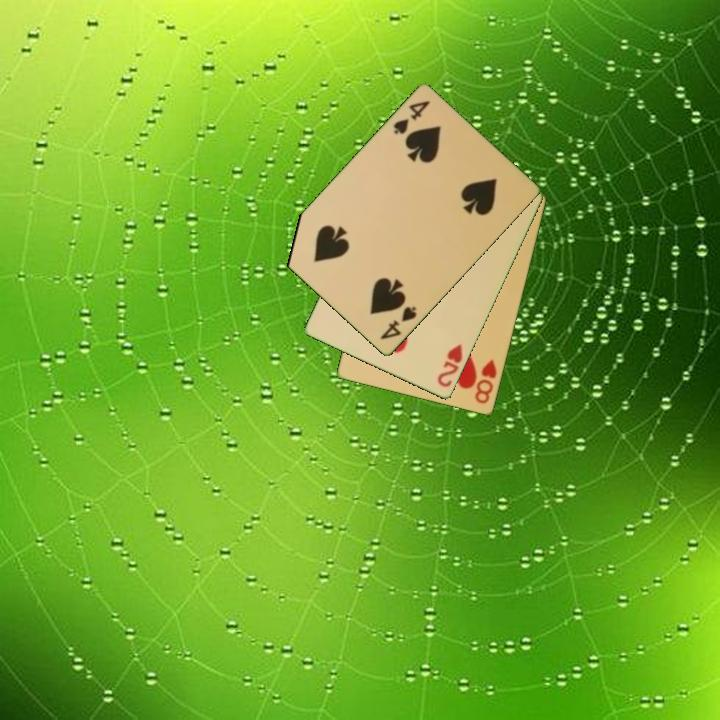2h: (434, 341, 466, 390)
4s: (389, 97, 433, 138), (376, 303, 420, 343)
8h: (472, 356, 500, 407)
